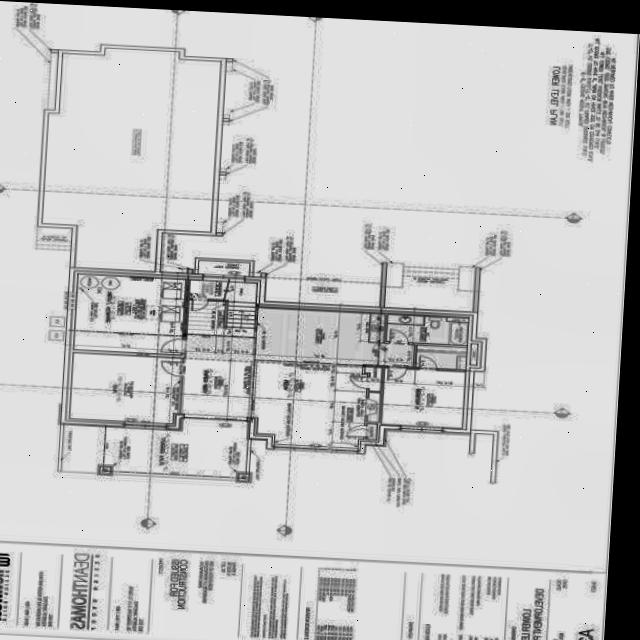room: (74, 273, 186, 355), (69, 351, 183, 424), (381, 367, 466, 427), (386, 314, 469, 345), (416, 344, 468, 370), (364, 366, 382, 390), (364, 422, 377, 439)
